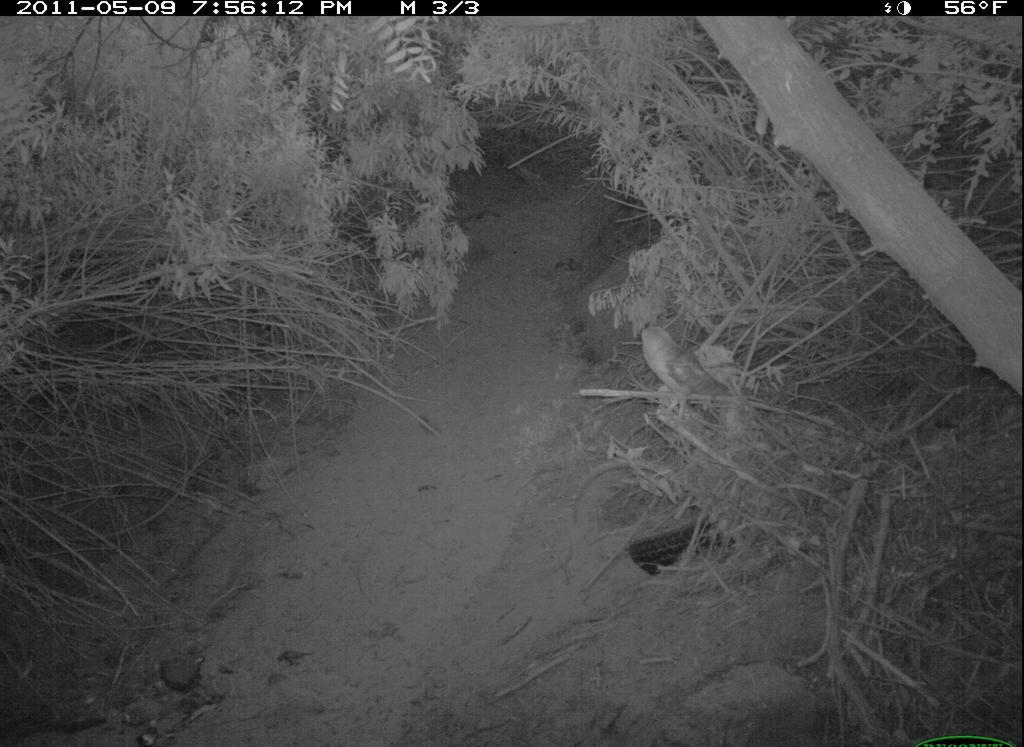bird: (619, 308, 760, 422)
